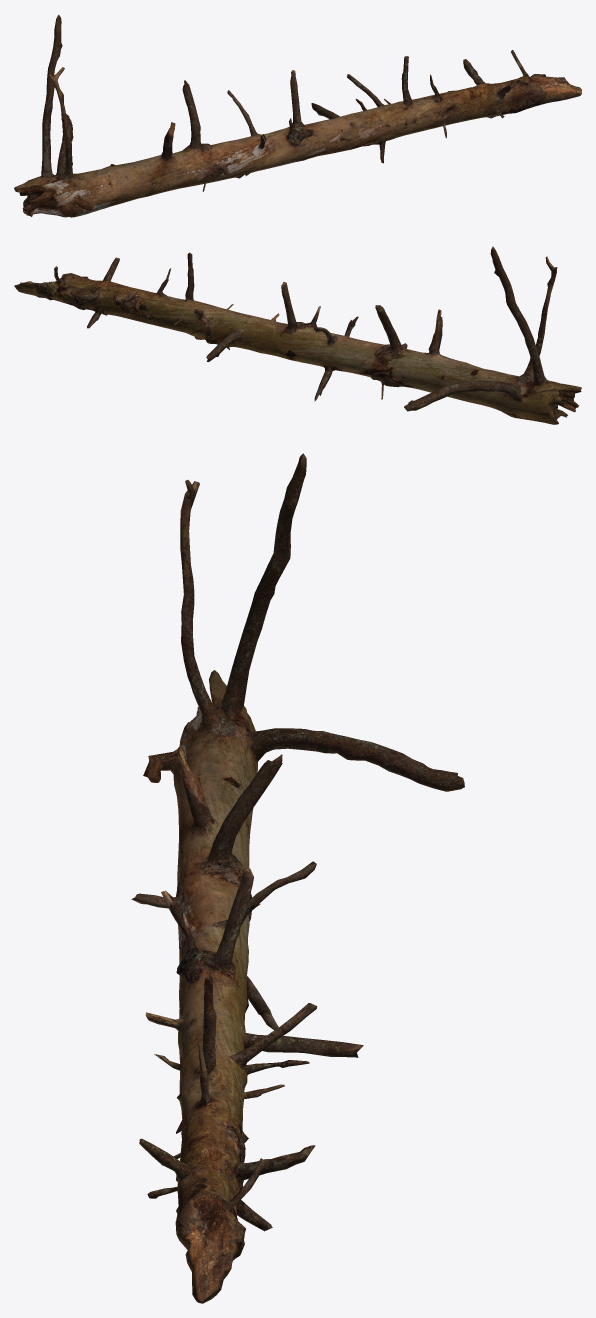
Rendered from nordic_forest_tree_log_small_xiclcfl_mid.glb.
3 views of the same model, one above another, from view 1: azimuth 30°, elevation 25°; view 2: azimuth 150°, elevation 25°; view 3: azimuth 270°, elevation 25° (orthographic). The views are drawn at different scales.
Visible parts, largest first — view 1: xiclcfl_LOD0_TIER2_000; view 2: xiclcfl_LOD0_TIER2_000; view 3: xiclcfl_LOD0_TIER2_000.
Boxes of the visible parts, x1,y1,x2,y2 form: xiclcfl_LOD0_TIER2_000: (14,14,581,217); xiclcfl_LOD0_TIER2_000: (14,246,581,424); xiclcfl_LOD0_TIER2_000: (131,453,464,1303).
Bounding box in the file's own units: 2.34 × 0.8008 × 0.5997.
Materials: 1 (1 with a texture image).
